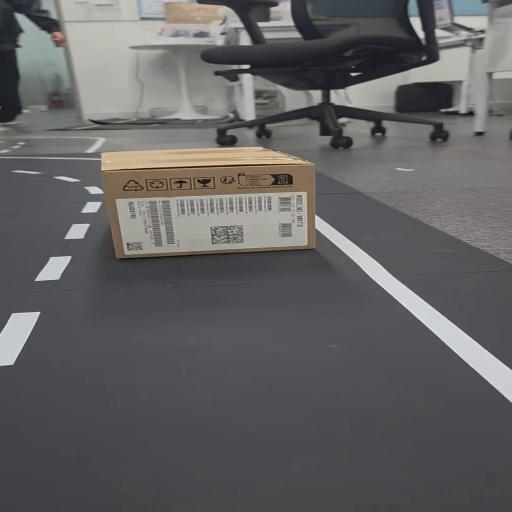Box: (92, 147, 324, 259)
